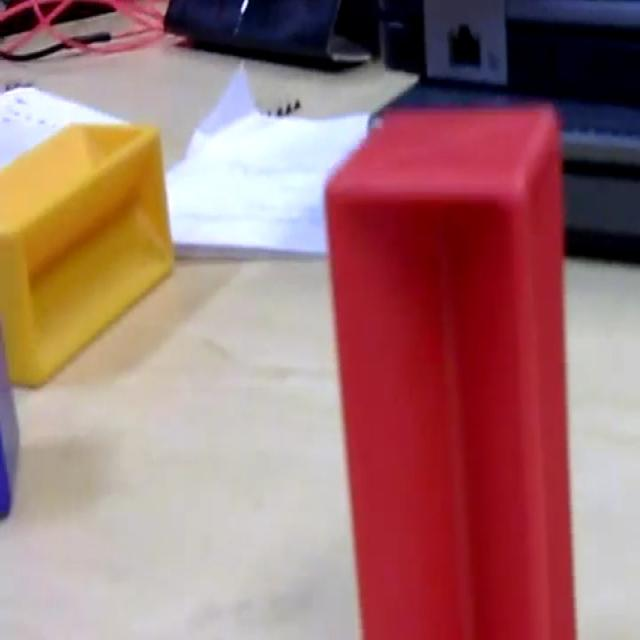red_block: (322, 99, 578, 636)
yellow_block: (0, 117, 175, 387)
